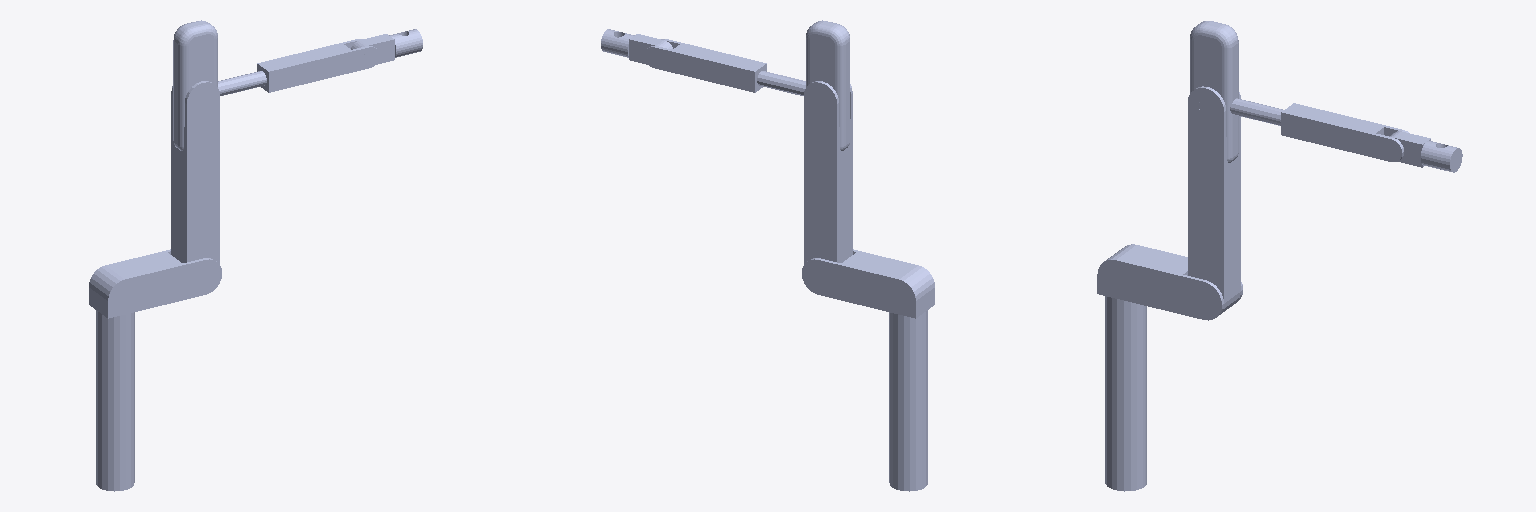
robot.urdf — antrop_parcial:
<?xml version="1.0" encoding="utf-8"?>
<!-- This URDF was automatically created by SolidWorks to URDF Exporter! Originally created by Stephen Brawner (brawner@gmail.com) 
     Commit Version: 1.6.0-4-g7f85cfe  Build Version: 1.6.7995.38578
     For more information, please see http://wiki.ros.org/sw_urdf_exporter -->
<robot
  name="antrop_parcial">
  <link
    name="base_link">
    <inertial>
      <origin
        xyz="0.0 0.0 0.0"
        rpy="0 0 0" />
      <mass
        value="0.500298630084175" />
      <inertia
        ixx="0.00281552189368122"
        ixy="-9.78451447748638E-37"
        ixz="5.85218717398301E-21"
        iyy="0.00281552189368122"
        iyz="2.93873587705572E-36"
        izz="0.000153869317686603" />
    </inertial>
    <visual>
      <origin
        xyz="0 0 0"
        rpy="0 0 0" />
      <geometry>
        <mesh
          filename="package://antrop_parcial/meshes/base_link.STL" />
      </geometry>
      <material
        name="">
        <color
          rgba="0.792156862745098 0.819607843137255 0.933333333333333 1" />
      </material>
    </visual>
    <collision>
      <origin
        xyz="0 0 0"
        rpy="0 0 0" />
      <geometry>
        <mesh
          filename="package://antrop_parcial/meshes/base_link.STL" />
      </geometry>
    </collision>
  </link>
  <link
    name="rot1">
    <inertial>
      <origin
        xyz="0.0 -1.1221492485225E-17 0.0248827682680419"
        rpy="0 0 0" />
      <mass
        value="0.306747611120431" />
      <inertia
        ixx="0.000132408996930483"
        ixy="2.63448497610058E-20"
        ixz="-4.04275985320018E-06"
        iyy="0.000569066893650669"
        iyz="6.91971919169215E-21"
        izz="0.000581231456583244" />
    </inertial>
    <visual>
      <origin
        xyz="0 0 0"
        rpy="0 0 0" />
      <geometry>
        <mesh
          filename="package://antrop_parcial/meshes/rot1.STL" />
      </geometry>
      <material
        name="">
        <color
          rgba="0.792156862745098 0.819607843137255 0.933333333333333 1" />
      </material>
    </visual>
    <collision>
      <origin
        xyz="0 0 0"
        rpy="0 0 0" />
      <geometry>
        <mesh
          filename="package://antrop_parcial/meshes/rot1.STL" />
      </geometry>
    </collision>
  </link>
  <joint
    name="1"
    type="continuous">
    <origin
      xyz="0.0 0.0 0.25"
      rpy="0 0 0" />
    <parent
      link="base_link" />
    <child
      link="rot1" />
    <axis
      xyz="0 0 1" />
  </joint>
  <link
    name="rot2">
    <inertial>
      <origin
        xyz="-2.91433543964104E-16 0.107347016959895 7.26415455565288E-18"
        rpy="0 0 0" />
      <mass
        value="0.480607490017801" />
      <inertia
        ixx="0.00256750193941879"
        ixy="8.74429070860752E-18"
        ixz="-5.34181155059357E-21"
        iyy="0.000168777360172501"
        iyz="-2.46841725216673E-20"
        izz="0.00259962401732566" />
    </inertial>
    <visual>
      <origin
        xyz="0 0 0"
        rpy="0 0 0" />
      <geometry>
        <mesh
          filename="package://antrop_parcial/meshes/rot2.STL" />
      </geometry>
      <material
        name="">
        <color
          rgba="0.792156862745098 0.819607843137255 0.933333333333333 1" />
      </material>
    </visual>
    <collision>
      <origin
        xyz="0 0 0"
        rpy="0 0 0" />
      <geometry>
        <mesh
          filename="package://antrop_parcial/meshes/rot2.STL" />
      </geometry>
    </collision>
  </link>
  <joint
    name="2"
    type="continuous">
    <origin
      xyz="0.12 0 0.0250000000000001"
      rpy="1.5707963267949 0 0" />
    <parent
      link="rot1" />
    <child
      link="rot2" />
    <axis
      xyz="0 0 1" />
  </joint>
  <link
    name="rot3">
    <inertial>
      <origin
        xyz="-0.0108238138063189 -2.22044604925031E-16 -1.16009632455949E-17"
        rpy="0 0 0" />
      <mass
        value="0.270791217116411" />
      <inertia
        ixx="9.04657850828715E-05"
        ixy="-5.2614339446287E-18"
        ixz="-9.39566255162447E-20"
        iyy="0.000747444616266821"
        iyz="-4.3654741492997E-11"
        izz="0.00079623662451712" />
    </inertial>
    <visual>
      <origin
        xyz="0 0 0"
        rpy="0 0 0" />
      <geometry>
        <mesh
          filename="package://antrop_parcial/meshes/rot3.STL" />
      </geometry>
      <material
        name="">
        <color
          rgba="0.792156862745098 0.819607843137255 0.933333333333333 1" />
      </material>
    </visual>
    <collision>
      <origin
        xyz="0 0 0"
        rpy="0 0 0" />
      <geometry>
        <mesh
          filename="package://antrop_parcial/meshes/rot3.STL" />
      </geometry>
    </collision>
  </link>
  <joint
    name="3"
    type="continuous">
    <origin
      xyz="0 0.25 0"
      rpy="0 0 0" />
    <parent
      link="rot2" />
    <child
      link="rot3" />
    <axis
      xyz="0 0 1" />
  </joint>
  <link
    name="rot4">
    <inertial>
      <origin
        xyz="-6.66133814775094E-16 -1.08558995126629E-14 0.143664004147768"
        rpy="0 0 0" />
      <mass
        value="0.152485837989553" />
      <inertia
        ixx="0.00057900202246224"
        ixy="-8.29140888840719E-21"
        ixz="3.71875558560706E-19"
        iyy="0.000578463326383573"
        iyz="-2.51629435585877E-21"
        izz="2.0451602448796E-05" />
    </inertial>
    <visual>
      <origin
        xyz="0 0 0"
        rpy="0 0 0" />
      <geometry>
        <mesh
          filename="package://antrop_parcial/meshes/rot4.STL" />
      </geometry>
      <material
        name="">
        <color
          rgba="0.792156862745098 0.819607843137255 0.933333333333333 1" />
      </material>
    </visual>
    <collision>
      <origin
        xyz="0 0 0"
        rpy="0 0 0" />
      <geometry>
        <mesh
          filename="package://antrop_parcial/meshes/rot4.STL" />
      </geometry>
    </collision>
  </link>
  <joint
    name="4"
    type="continuous">
    <origin
      xyz="0 0 0"
      rpy="1.5707963267949 0 1.5707963267949" />
    <parent
      link="rot3" />
    <child
      link="rot4" />
    <axis
      xyz="0 0 -1" />
  </joint>
  <link
    name="rot5">
    <inertial>
      <origin
        xyz="0 -0.0111165796349907 1.18180205205265E-14"
        rpy="0 0 0" />
      <mass
        value="0.0280526545231308" />
      <inertia
        ixx="7.98304420565283E-06"
        ixy="3.94923703229323E-20"
        ixz="-5.57603985162801E-21"
        iyy="3.65832664317194E-06"
        iyz="-1.18659655469704E-21"
        izz="8.72615355637492E-06" />
    </inertial>
    <visual>
      <origin
        xyz="0 0 0"
        rpy="0 0 0" />
      <geometry>
        <mesh
          filename="package://antrop_parcial/meshes/rot5.STL" />
      </geometry>
      <material
        name="">
        <color
          rgba="0.792156862745098 0.819607843137255 0.933333333333333 1" />
      </material>
    </visual>
    <collision>
      <origin
        xyz="0 0 0"
        rpy="0 0 0" />
      <geometry>
        <mesh
          filename="package://antrop_parcial/meshes/rot5.STL" />
      </geometry>
    </collision>
  </link>
  <joint
    name="5"
    type="continuous">
    <origin
      xyz="0 0 0.25"
      rpy="-1.5707963267949 0 0" />
    <parent
      link="rot4" />
    <child
      link="rot5" />
    <axis
      xyz="0 0 -1" />
  </joint>
  <link
    name="rot6">
    <inertial>
      <origin
        xyz="-8.22390688881569E-09 9.32742855131938E-09 0.051594322436814"
        rpy="0 0 0" />
      <mass
        value="0.0293018734953369" />
      <inertia
        ixx="1.38937890416148E-05"
        ixy="-2.48681364468288E-08"
        ixz="3.19080070935135E-12"
        iyy="1.36059363892186E-05"
        iyz="-2.19886443250331E-12"
        izz="2.90053964064901E-06" />
    </inertial>
    <visual>
      <origin
        xyz="0 0 0"
        rpy="0 0 0" />
      <geometry>
        <mesh
          filename="package://antrop_parcial/meshes/rot6.STL" />
      </geometry>
      <material
        name="">
        <color
          rgba="0.792156862745098 0.819607843137255 0.933333333333333 1" />
      </material>
    </visual>
    <collision>
      <origin
        xyz="0 0 0"
        rpy="0 0 0" />
      <geometry>
        <mesh
          filename="package://antrop_parcial/meshes/rot6.STL" />
      </geometry>
    </collision>
  </link>
  <joint
    name="6"
    type="continuous">
    <origin
      xyz="0 0 0"
      rpy="1.5707963267949 0 0" />
    <parent
      link="rot5" />
    <child
      link="rot6" />
    <axis
      xyz="0 0 -1" />
  </joint>
  <link
    name="rot7">
    <inertial>
      <origin
        xyz="-8.22390644472648E-09 9.32741710772808E-09 -0.0284056775631861"
        rpy="0 0 0" />
      <mass
        value="0.0293018734953369" />
      <inertia
        ixx="1.38937890416148E-05"
        ixy="-2.48681364468309E-08"
        ixz="3.19080070680864E-12"
        iyy="1.36059363892186E-05"
        iyz="-2.19886443249758E-12"
        izz="2.90053964064901E-06" />
    </inertial>
    <visual>
      <origin
        xyz="0 0 0"
        rpy="0 0 0" />
      <geometry>
        <mesh
          filename="package://antrop_parcial/meshes/rot7.STL" />
      </geometry>
      <material
        name="">
        <color
          rgba="0.792156862745098 0.819607843137255 0.933333333333333 1" />
      </material>
    </visual>
    <collision>
      <origin
        xyz="0 0 0"
        rpy="0 0 0" />
      <geometry>
        <mesh
          filename="package://antrop_parcial/meshes/rot7.STL" />
      </geometry>
    </collision>
  </link>
  <joint
    name="7"
    type="fixed">
    <origin
      xyz="0 0 0.0800000000000001"
      rpy="0 0 0" />
    <parent
      link="rot6" />
    <child
      link="rot7" />
    <axis
      xyz="0 0 0" />
  </joint>
</robot>

--- What the picture shows (computed from the rendered views, not written in the file) ---
3 views of the same robot in one strip: view 1: azimuth 30°, elevation 25°; view 2: azimuth 150°, elevation 25°; view 3: azimuth 330°, elevation 25° (orthographic).
Robot: antrop_parcial — 8 links, 7 joints (6 continuous, 1 fixed); root link base_link; default pose: all joints at 0.
Visible links, largest first — view 1: rot2, base_link, rot1, rot4, rot3, rot5, rot6; view 2: rot2, base_link, rot1, rot4, rot3, rot5, rot6; view 3: rot2, base_link, rot1, rot4, rot3, rot6, rot5.
Link boxes in pixels (<box>): rot2: <box>171,81,219,263</box>; base_link: <box>96,310,134,491</box>; rot1: <box>89,249,221,318</box>; rot4: <box>218,39,379,95</box>; rot3: <box>173,20,217,150</box>; rot5: <box>351,34,394,64</box>; rot6: <box>389,29,422,57</box>; rot2: <box>804,81,852,263</box>; base_link: <box>889,310,927,491</box>; rot1: <box>802,249,934,318</box>; rot4: <box>644,39,805,95</box>; rot3: <box>806,20,849,150</box>; rot5: <box>629,34,672,64</box>; rot6: <box>601,29,634,57</box>; rot2: <box>1188,86,1240,314</box>; base_link: <box>1105,296,1146,491</box>; rot1: <box>1097,244,1242,320</box>; rot4: <box>1230,98,1408,161</box>; rot3: <box>1190,21,1238,162</box>; rot6: <box>1421,141,1462,172</box>; rot5: <box>1384,131,1430,167</box>.
Size in the robot's own frame: 0.475 by 0.05 by 0.625 metres.
7 mesh visuals loaded from 8 distinct referenced files (7 binary STL); not drawn: 1 (reference not matched to a file when rendering).
